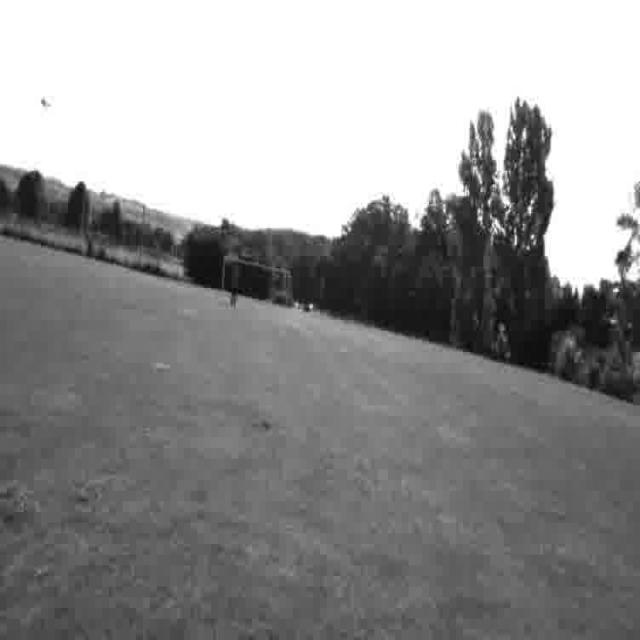drone: (293, 300, 314, 315)
